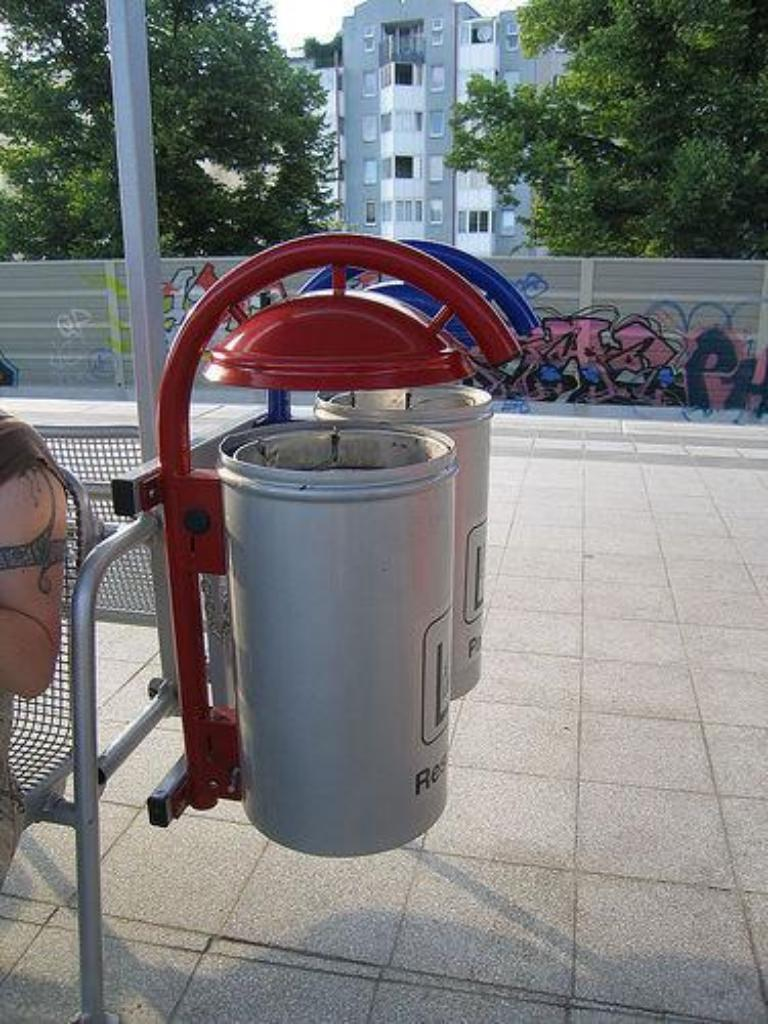dustbin: (211, 409, 471, 870)
